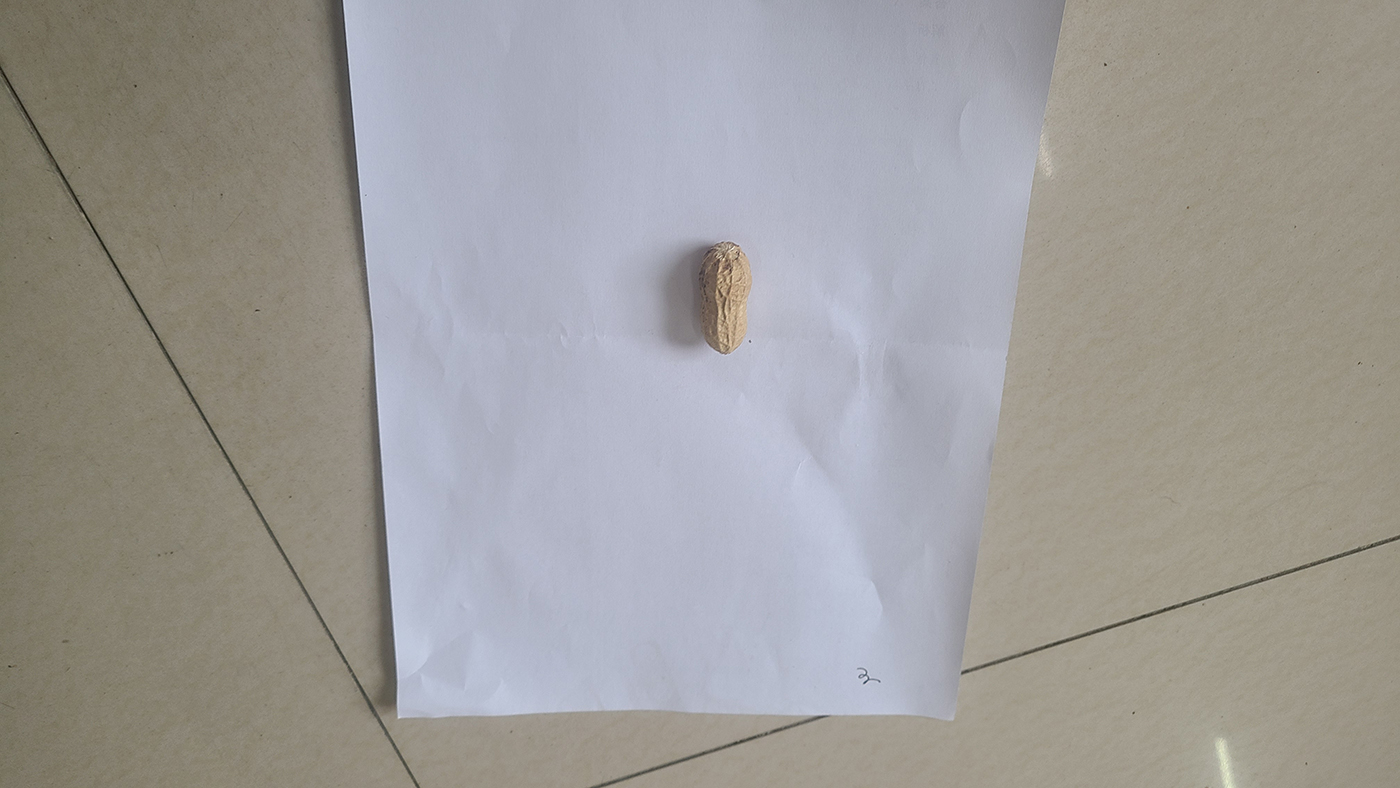h: (696, 241, 753, 354)
